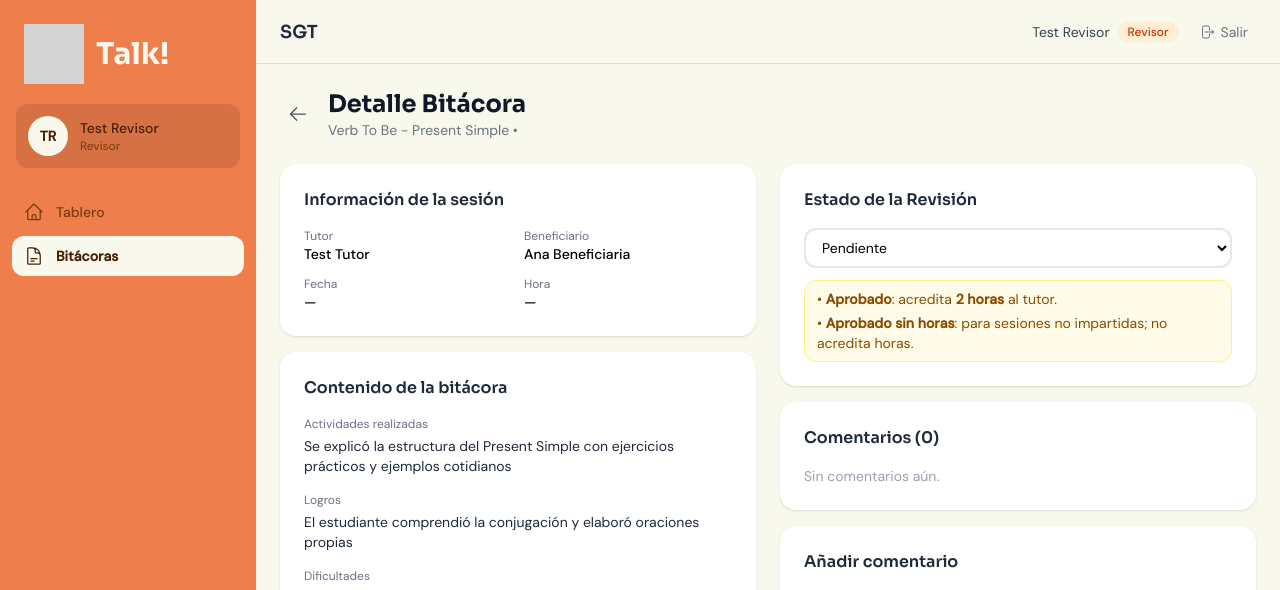
Test: INT-01 | Flujo feliz completo entre roles › Paso 3 — Revisor aprueba la bitácora pendiente del tutor
Select "Aprobado" in the dropdown at (1018, 248), box [804,228,1232,268]
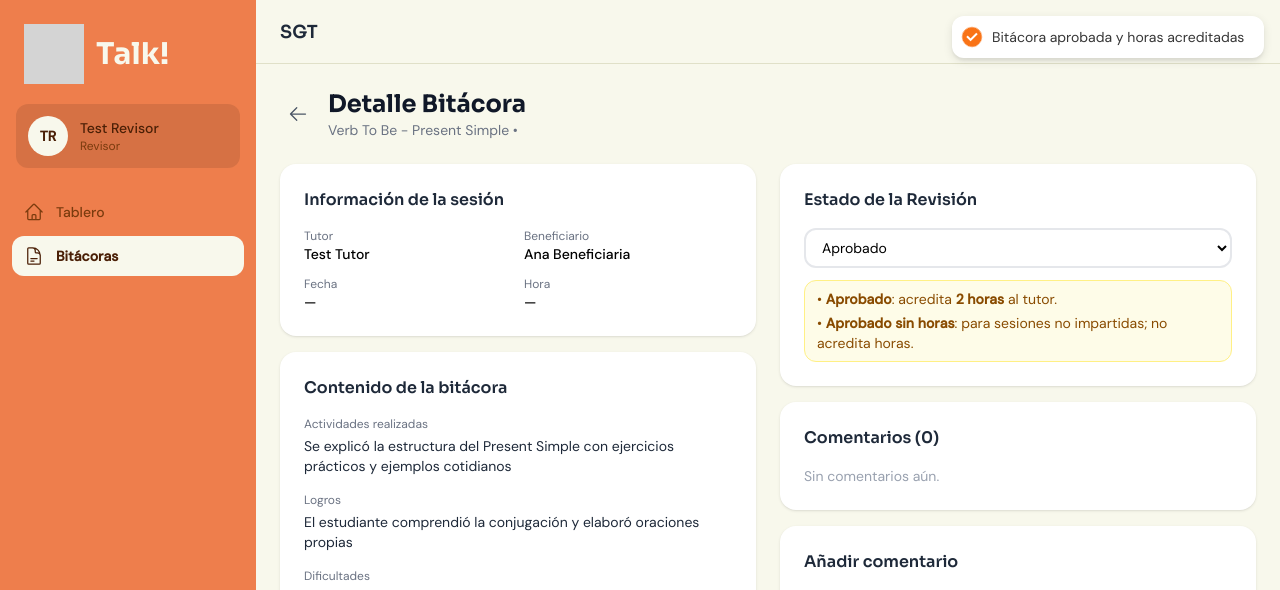
expect the text "Bitácora aprobada y horas acreditadas" is shown: met, box [992,28,1244,46]
